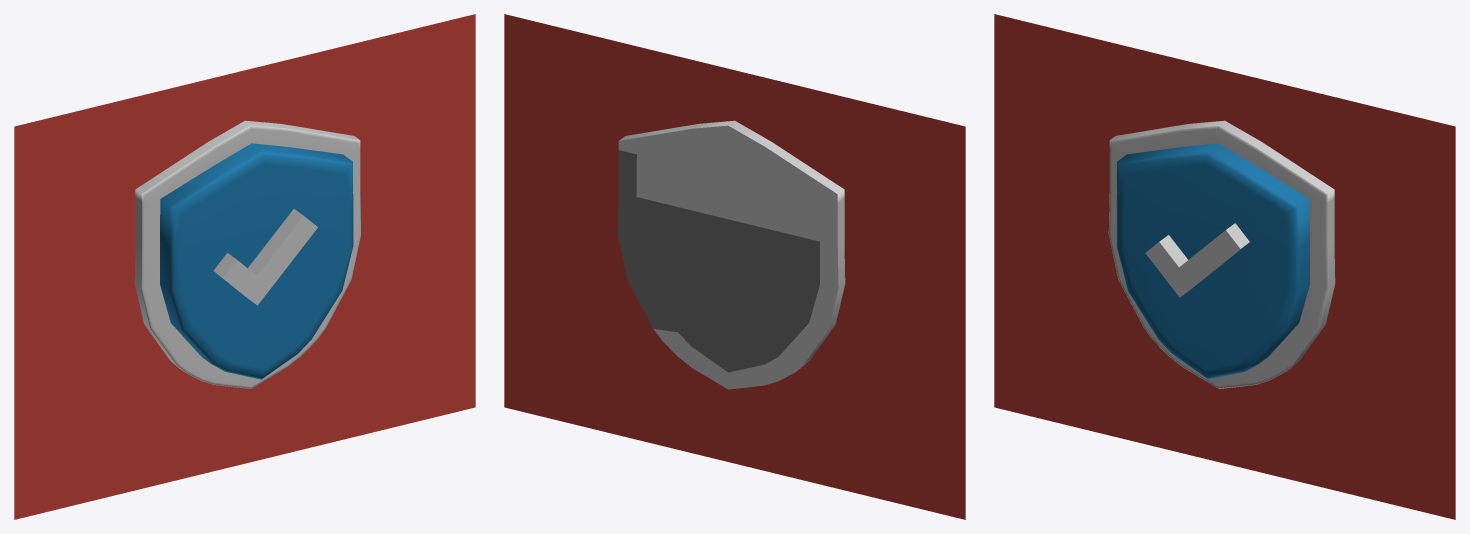
File: shield.dae
The picture shows the model from 3 angles, left to right: view 1: azimuth 30°, elevation 25°; view 2: azimuth 150°, elevation 25°; view 3: azimuth 330°, elevation 25°; orthographic projection.
Visible parts, largest first — view 1: Color_Red, pCube8, pCube9; view 2: Color_Red, pCube8; view 3: Color_Red, pCube8, pCube9.
Boxes of the visible parts, left/top/right/bottom form: Color_Red: left=14, top=14, right=475, bottom=519; pCube8: left=134, top=120, right=361, bottom=388; pCube9: left=213, top=209, right=317, bottom=305; Color_Red: left=504, top=14, right=965, bottom=519; pCube8: left=618, top=120, right=845, bottom=389; Color_Red: left=994, top=14, right=1455, bottom=519; pCube8: left=1108, top=120, right=1335, bottom=388; pCube9: left=1145, top=223, right=1249, bottom=297.
Size of the model in its own units: 4.8 by 3.91 by 0.6424.
